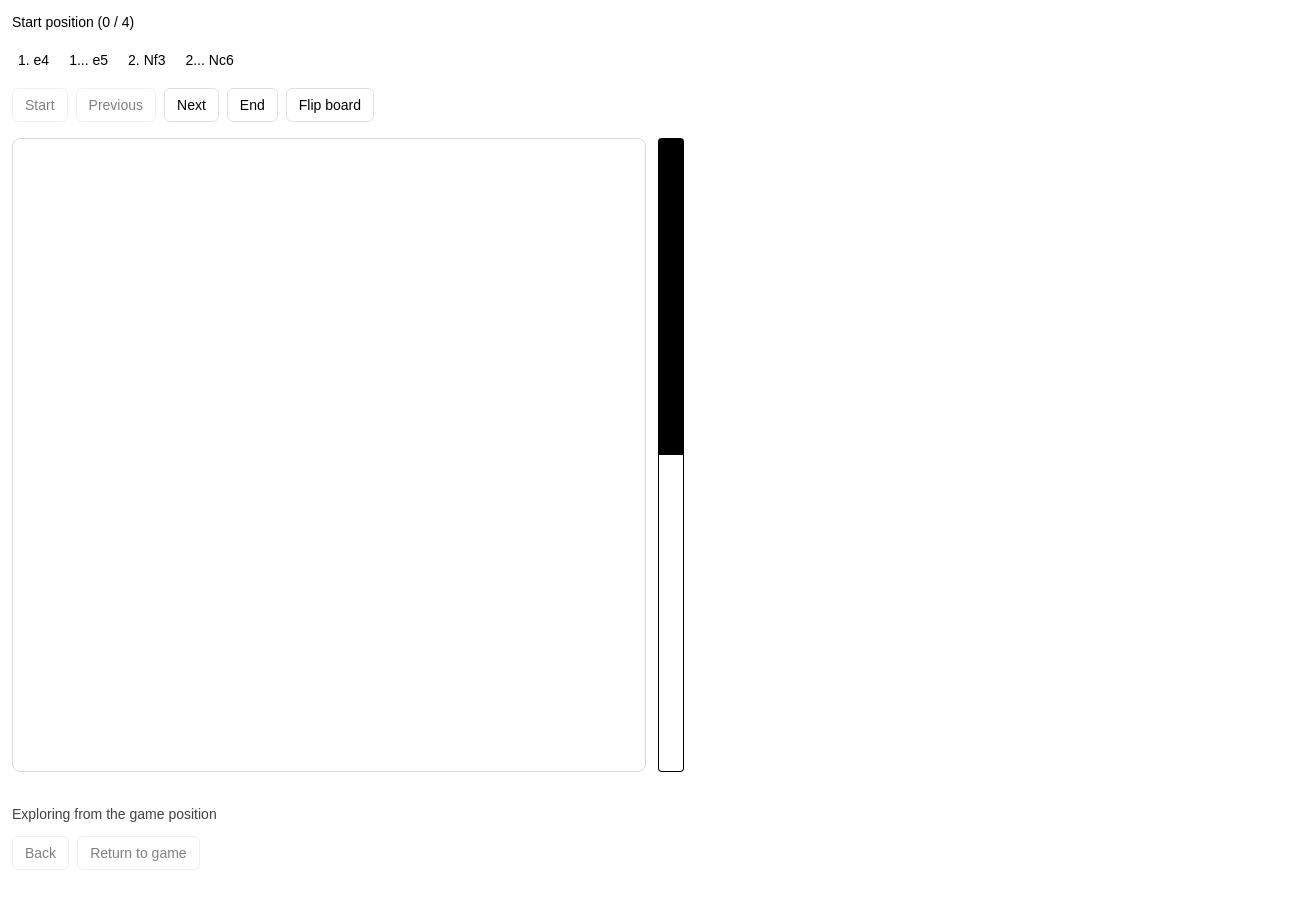
Test: ReviewBoard › FullGameAnalysisPanel integration › clicking a move in the list navigates to that ply
This screenshot has width=1292, height=910.
Click the button "2. Nf3" at (147, 60), box x1=122 y1=48 x2=172 y2=72
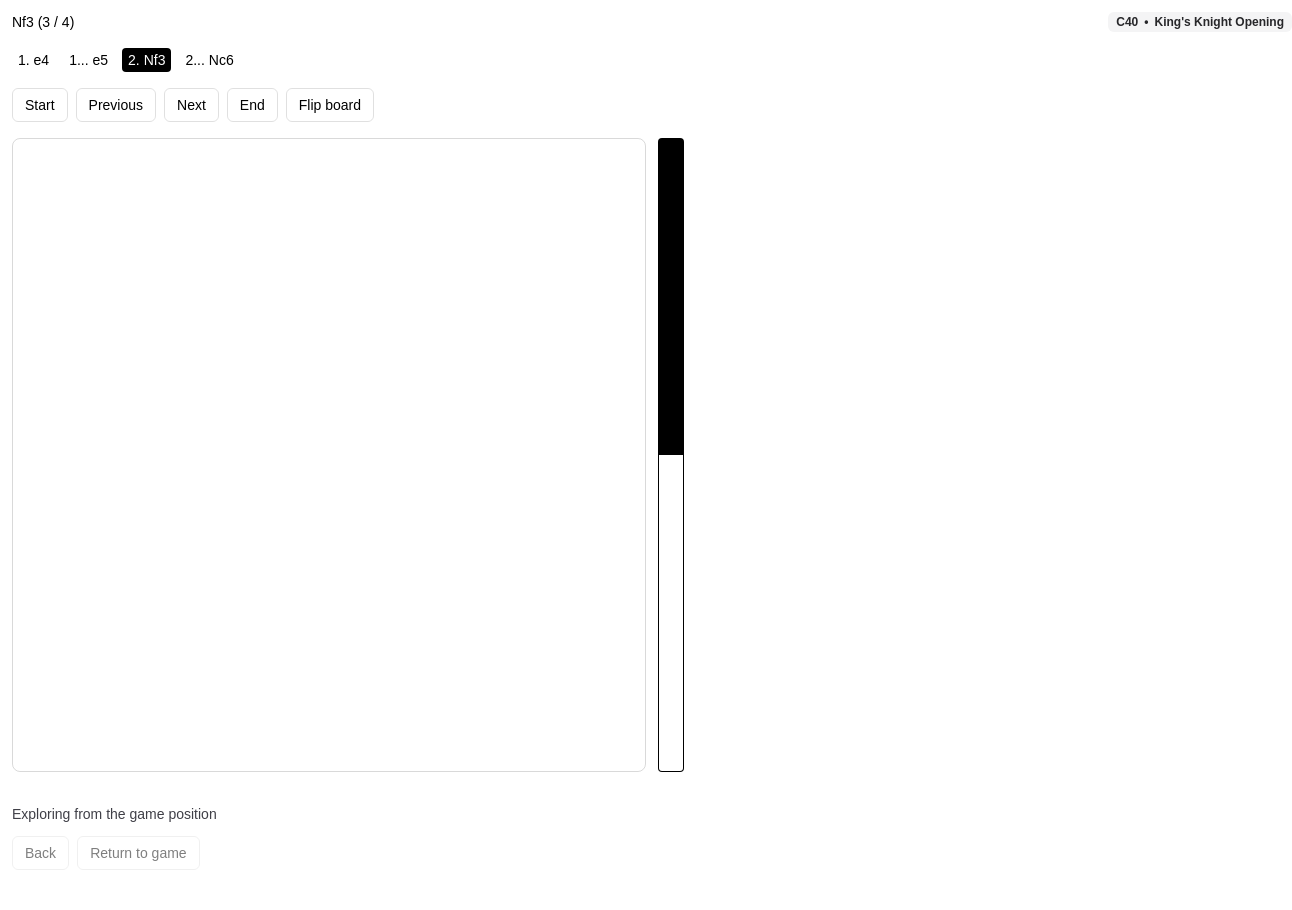
Now the text with test id "review-ply-status" reads "Nf3", box x1=12 y1=14 x2=34 y2=30
Now the text with test id "review-ply-count" reads "(3 / 4)", box x1=38 y1=14 x2=74 y2=30
